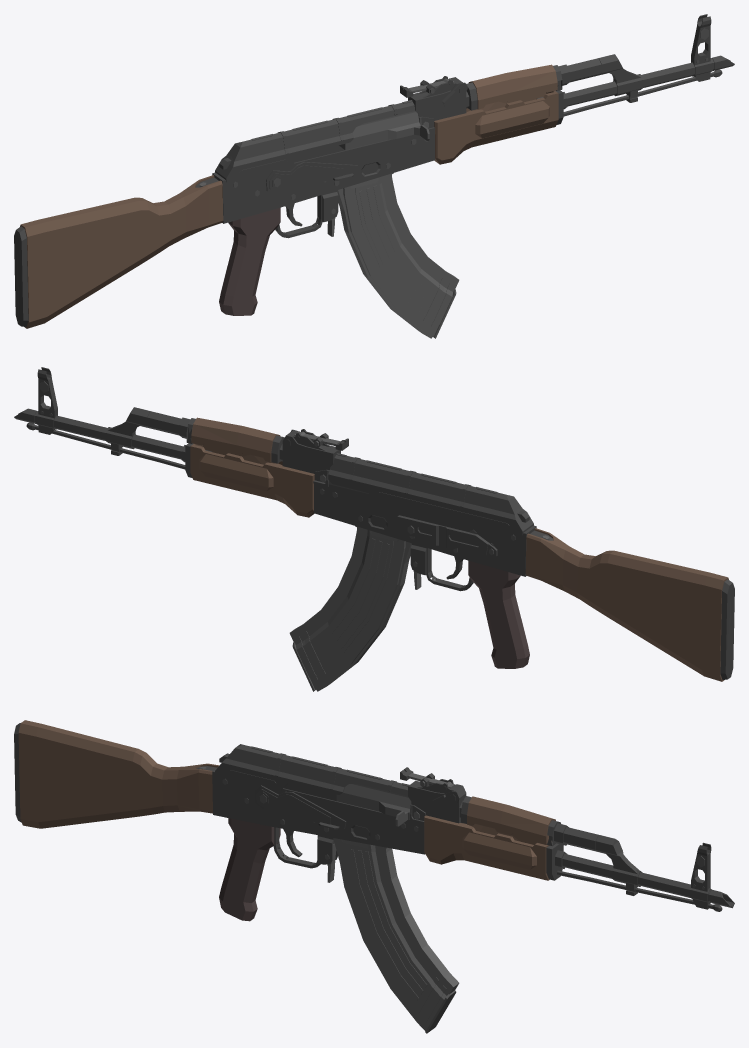
3 renders of one model, top to bottom at view 1: azimuth 30°, elevation 25°; view 2: azimuth 150°, elevation 25°; view 3: azimuth 330°, elevation 25°, orthographic.
Visible parts, largest first — view 1: body, mag, bolt; view 2: body, mag; view 3: body, mag, bolt.
Part boxes in pixels (x1=…): body: x1=14, y1=14, x2=734, y2=328; mag: x1=337, y1=173, x2=459, y2=338; bolt: x1=339, y1=111, x2=429, y2=150; body: x1=14, y1=367, x2=734, y2=681; mag: x1=289, y1=526, x2=411, y2=691; body: x1=14, y1=720, x2=734, y2=921; mag: x1=333, y1=838, x2=459, y2=1033; bolt: x1=336, y1=784, x2=411, y2=826.
Bounding box in the file's own units: 0.88 × 0.2999 × 0.0519.
